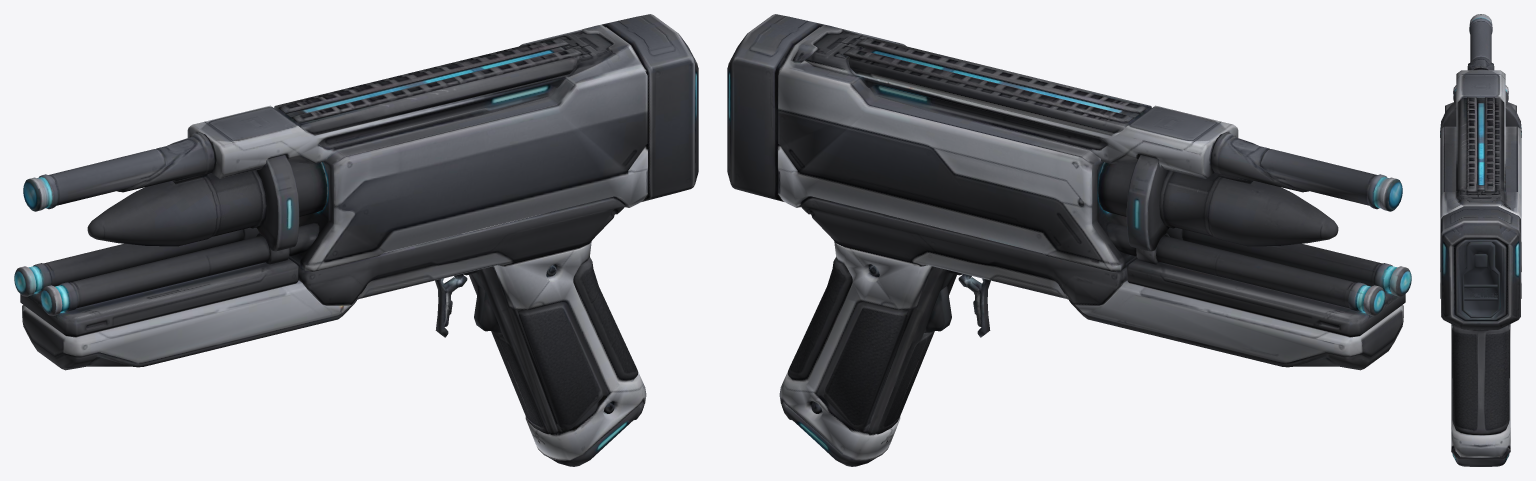
File: ScifiRocket.fbx
3 views of the same model, side by side, from view 1: azimuth 30°, elevation 25°; view 2: azimuth 150°, elevation 25°; view 3: azimuth 270°, elevation 25° (orthographic). The views are drawn at different scales.
Parts seen in each view (by area): view 1: launcher, rocket, trigger; view 2: launcher, rocket, trigger; view 3: launcher.
Part boxes in pixels (x1,y1,x2,y2): launcher: [14, 14, 698, 466]; rocket: [87, 162, 328, 246]; trigger: [435, 274, 467, 337]; launcher: [727, 14, 1411, 466]; rocket: [1097, 162, 1338, 246]; trigger: [958, 274, 990, 337]; launcher: [1440, 14, 1521, 466].
Size of the model in its own units: 0.9995 by 0.6089 by 0.1606.
Materials: 3 (3 with a texture image).
